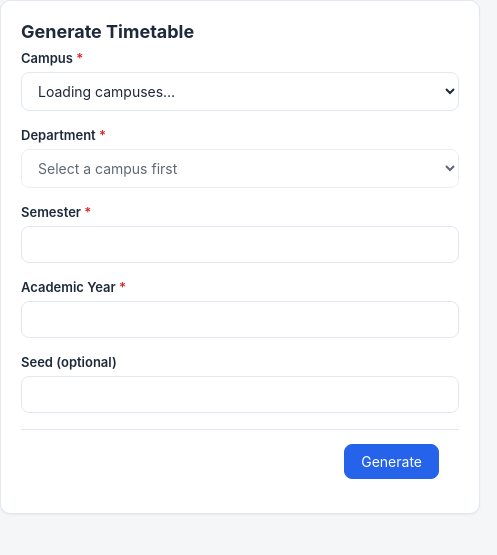
GenerateForm › asks for a department instead of submitting when none is selected
Type "ODD" into the field labelled "Semester *". click: [240, 244]
box: [21,226,459,263]
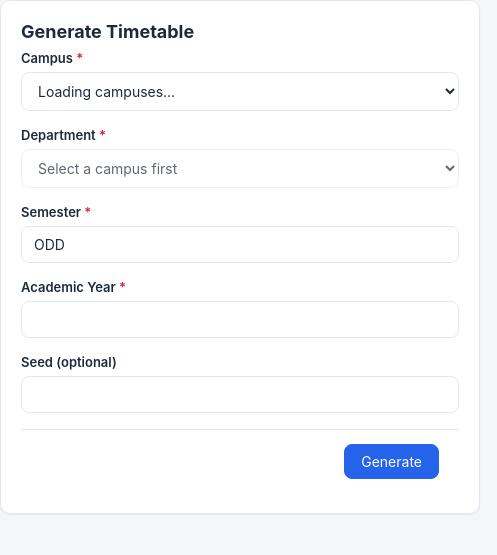
Type "2025-26" into the field labelled "Academic Year *". click: [240, 320]
box: [21,301,459,338]
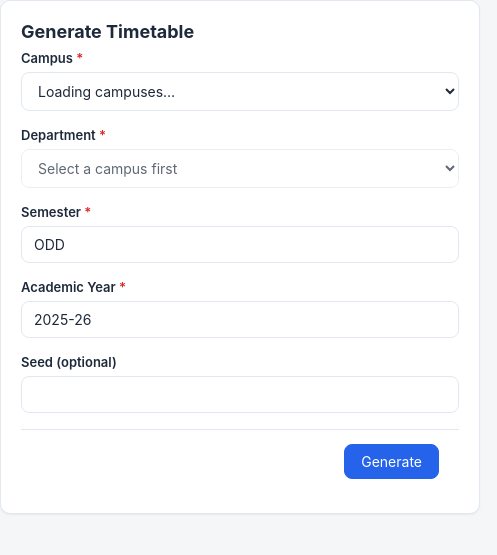
Click the button "Generate". click: [392, 462]
box: [344,444,439,479]
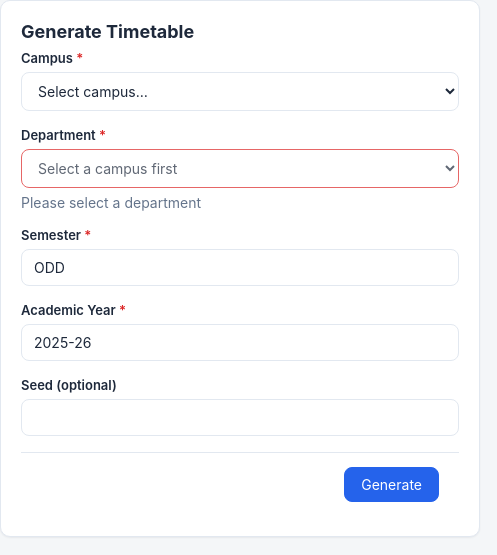
Now the text "Please select a department" is shown, box [21,194,201,211]
